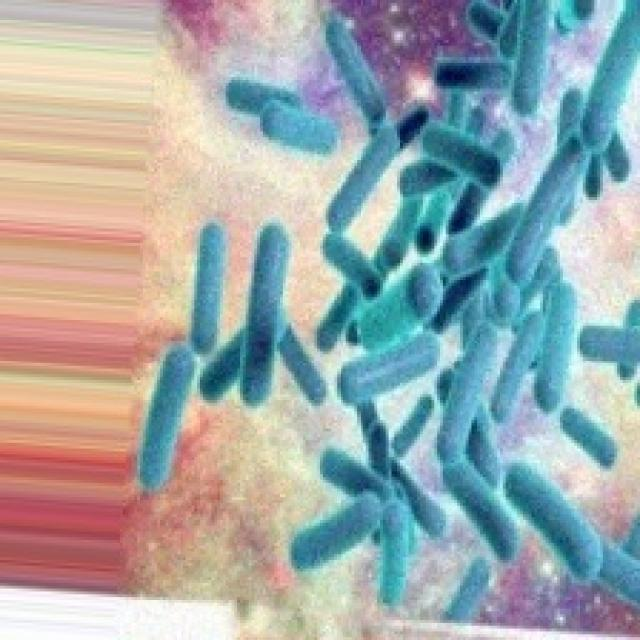Rod_bacteria: (120, 0, 637, 637)
